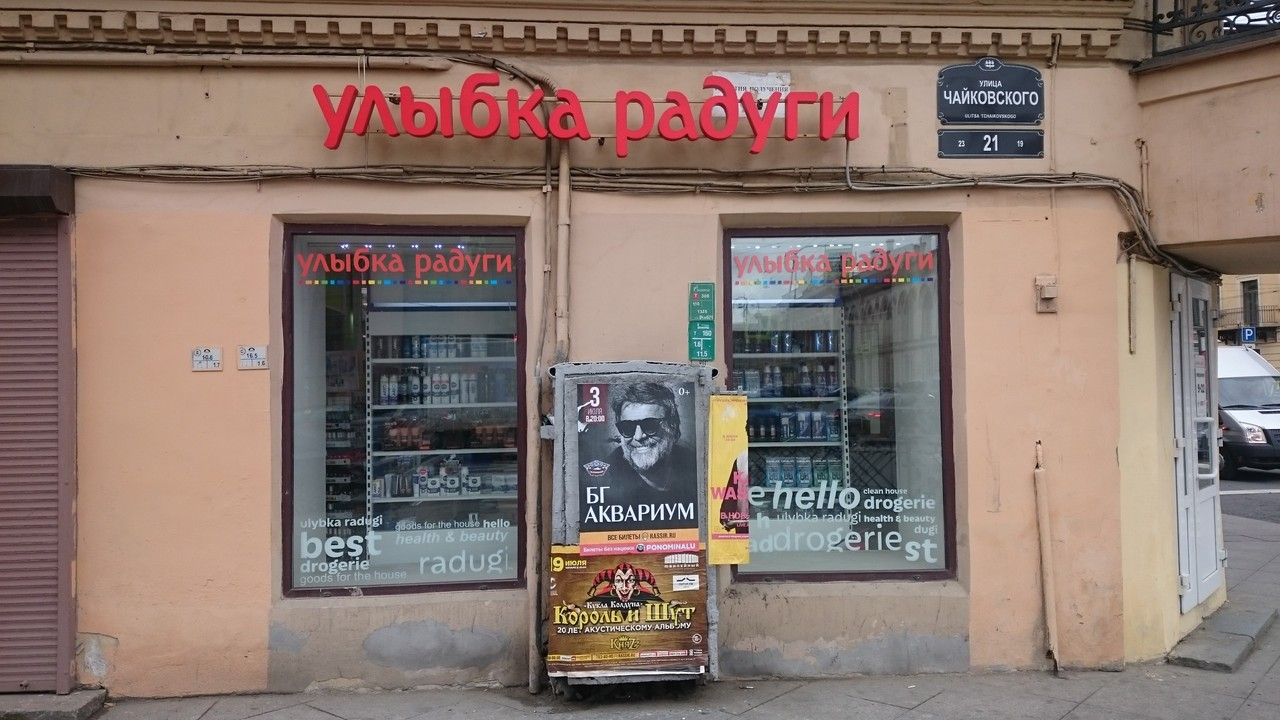signboard: (313, 74, 861, 159)
window: (281, 221, 521, 588), (727, 229, 949, 577)
